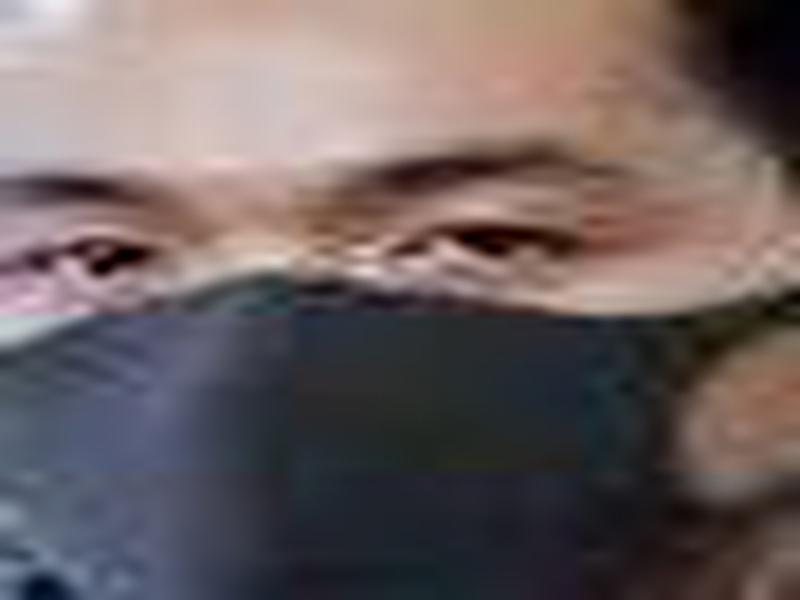with_mask: (1, 6, 796, 600)
